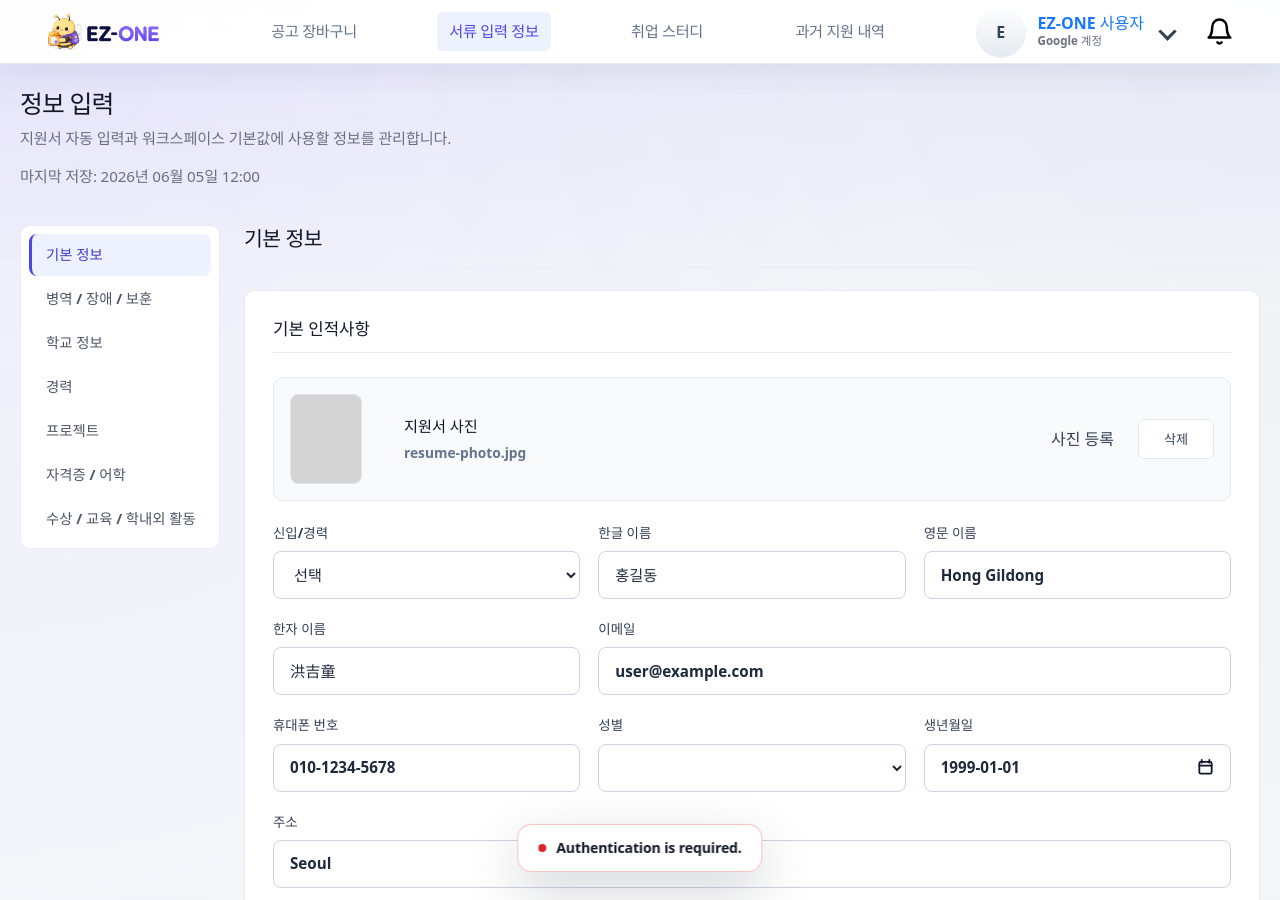
Test: DocumentProfilePage › PROFILE-011: renders disability and veteran groups like application-form choices
The image size is (1280, 900).
Step 1. Click the button with test id "section-military" → (120, 299), box [29,278,211,320]
(page scrolled)
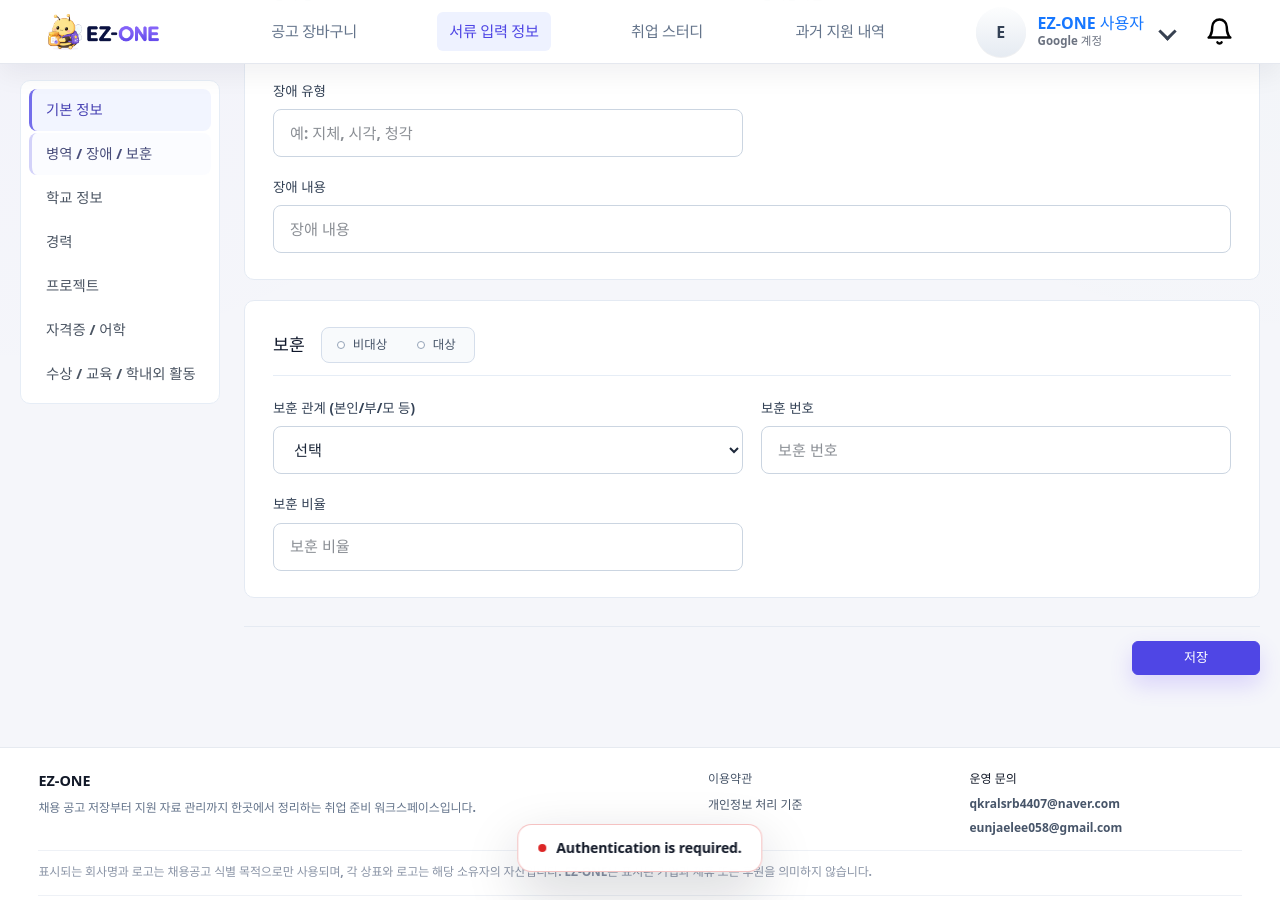
Result: the element with test id "veteran-isVeteran-radio-group" shows "비대상" at [353,336,387,353]
Result: the element with test id "veteran-isVeteran-radio-group" shows "대상" at [433,336,456,353]
Result: the dropdown with test id "veteran-veteranRelation" shows "본인" at [273,426,743,474]
